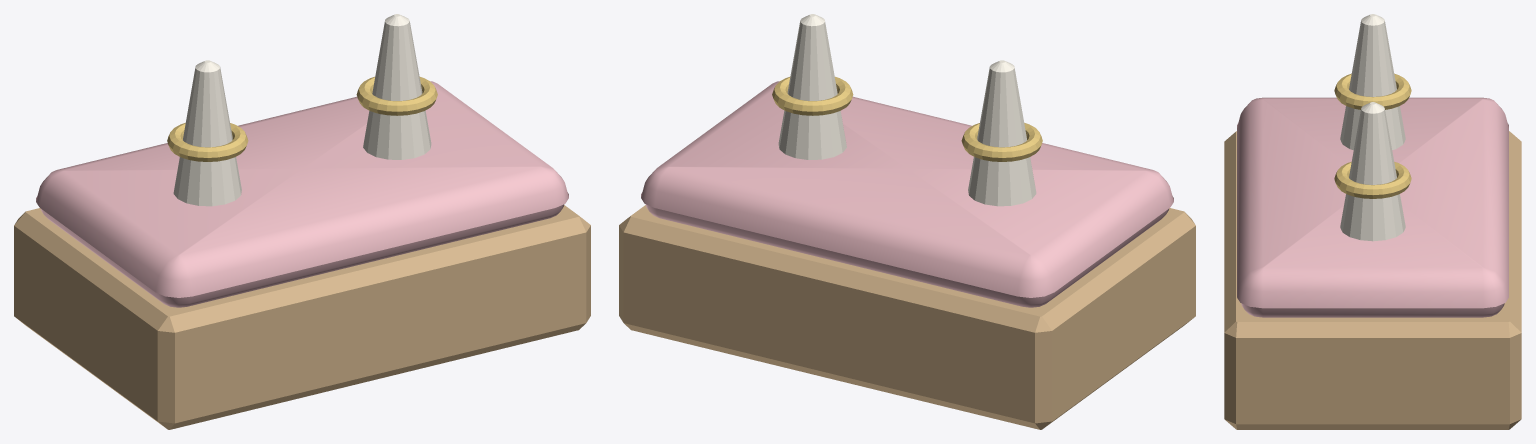
File: wedding-and-chapel-kit-wedding-bands-display-d11e7a2c__39396.glb
3 renders of one model, left to right at view 1: azimuth 30°, elevation 25°; view 2: azimuth 150°, elevation 25°; view 3: azimuth 270°, elevation 25°, orthographic. The views are drawn at different scales.
Visible parts, largest first — view 1: wedding-bands-display; view 2: wedding-bands-display; view 3: wedding-bands-display.
Boxes of the visible parts, bbox=[...] form: wedding-bands-display: bbox=[14, 14, 590, 429]; wedding-bands-display: bbox=[619, 14, 1195, 429]; wedding-bands-display: bbox=[1224, 14, 1521, 429].
Bounding box in the file's own units: 0.16 × 0.102 × 0.1.
